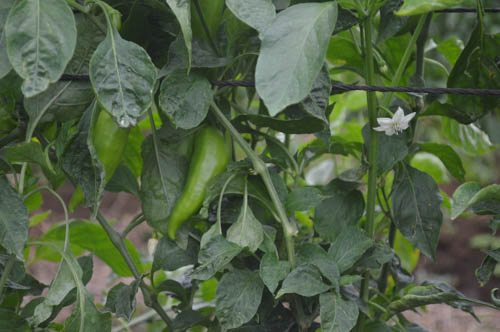ChiliPepper: (165, 131, 228, 245), (66, 111, 123, 221)
